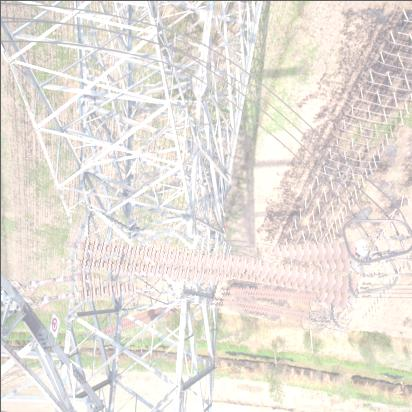insulator: (61, 222, 361, 323), (220, 281, 322, 310)
